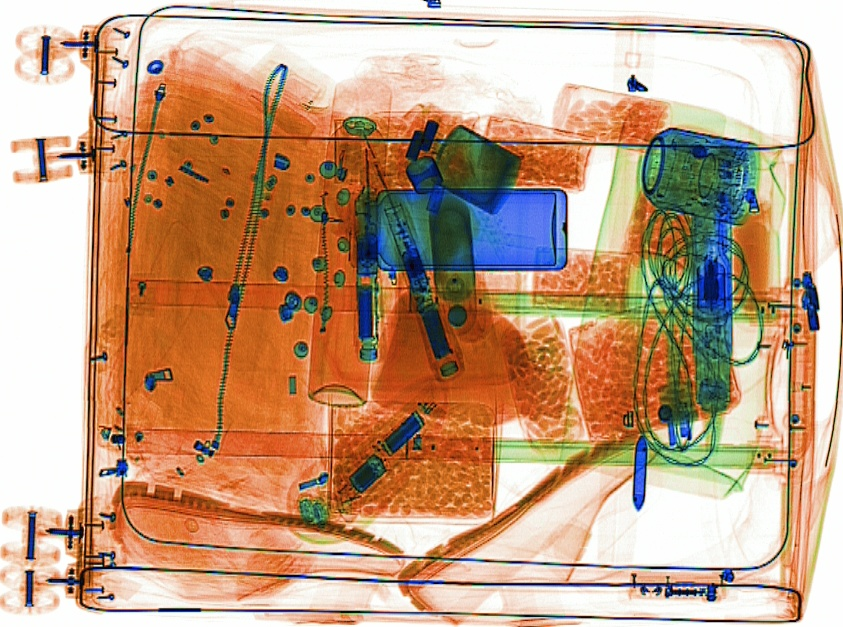pressure: (304, 76, 394, 411)
